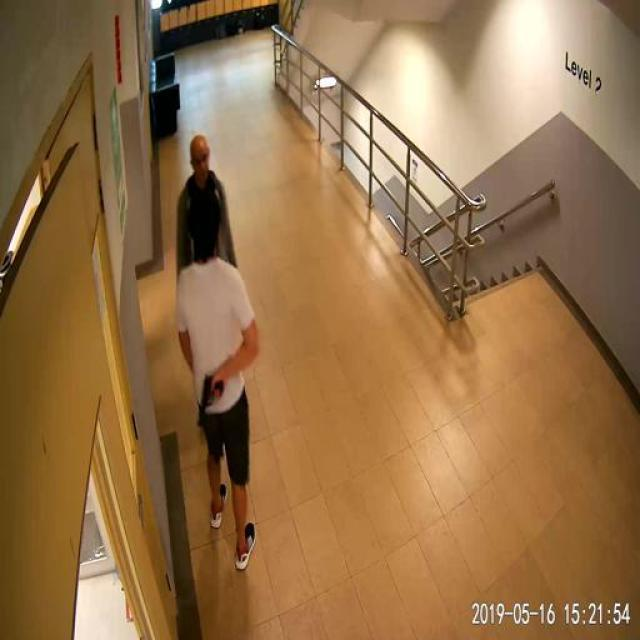Gun: (194, 361, 226, 427)
